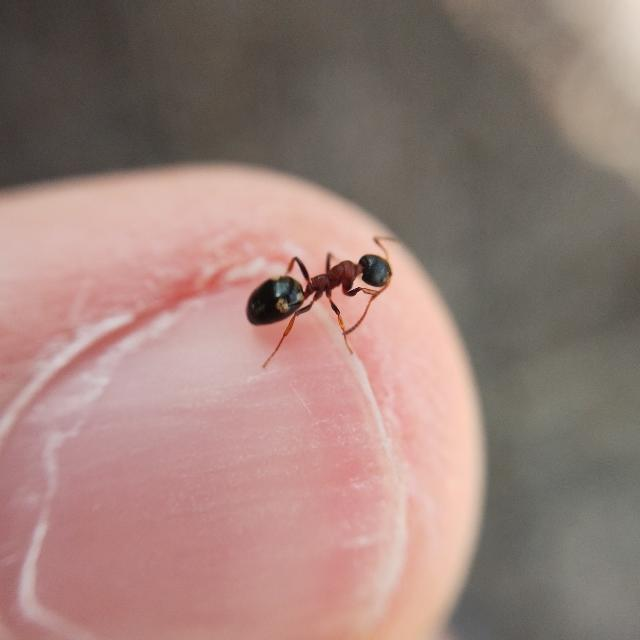Dolichoderus: (231, 219, 419, 351)
